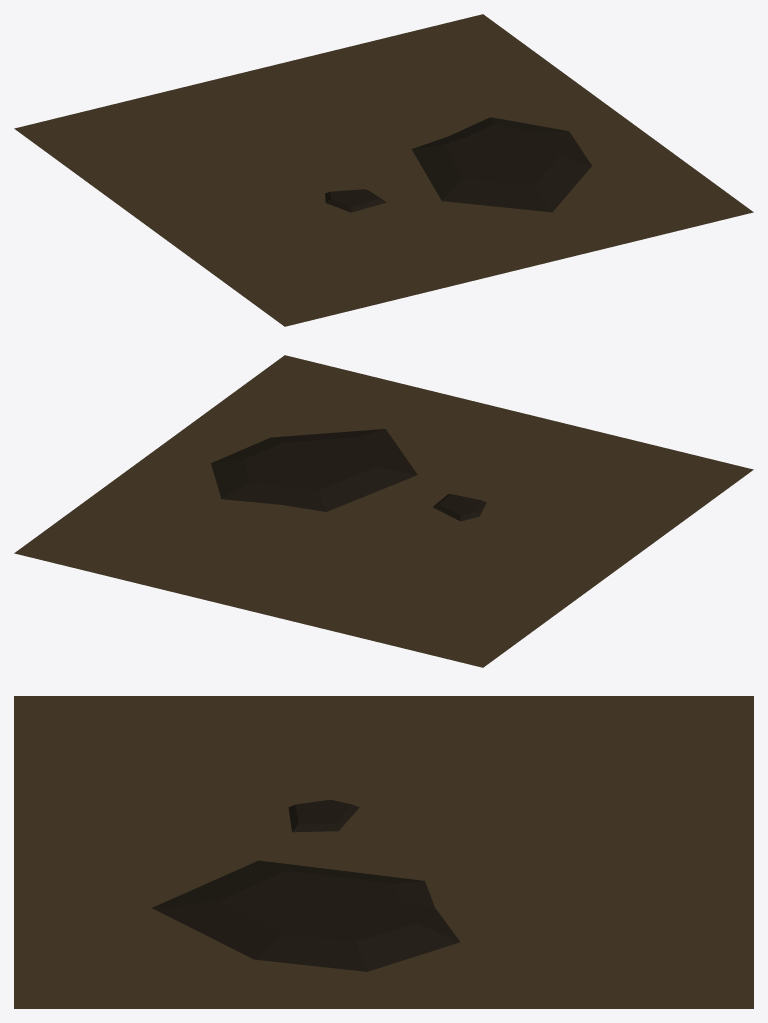
File: Floor.016.fbx
3 renders of one model, top to bottom at view 1: azimuth 30°, elevation 25°; view 2: azimuth 150°, elevation 25°; view 3: azimuth 270°, elevation 25°, orthographic. The views are drawn at different scales.
Visible parts, largest first — view 1: Floor.016; view 2: Floor.016; view 3: Floor.016.
Boxes of the visible parts, x1,y1,x2,y2 form: Floor.016: [14, 14, 753, 326]; Floor.016: [14, 355, 753, 667]; Floor.016: [14, 696, 753, 1008].
Size of the model in its own units: 100 by 2.35 by 100.
